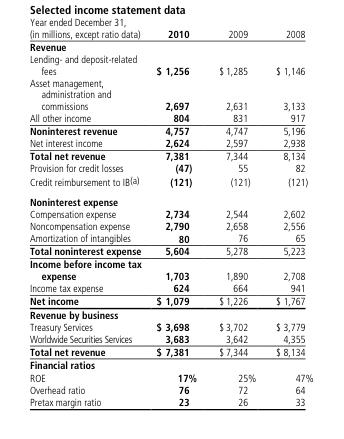table: (28, 29, 312, 407)
table column: (28, 29, 148, 407), (148, 29, 207, 407), (207, 29, 265, 407), (265, 29, 312, 407)
table column header: (28, 29, 312, 40)
table projected row header: (28, 192, 312, 208), (28, 358, 312, 371), (28, 40, 312, 52), (28, 308, 312, 320)
table row: (28, 76, 312, 112), (28, 257, 312, 282), (28, 52, 312, 76), (28, 174, 312, 192), (28, 192, 312, 208), (28, 294, 312, 308), (28, 124, 312, 137), (28, 149, 312, 162), (28, 232, 312, 245), (28, 320, 312, 333), (28, 345, 312, 358), (28, 358, 312, 371), (28, 371, 312, 384), (28, 40, 312, 52), (28, 112, 312, 124), (28, 137, 312, 149), (28, 162, 312, 174), (28, 208, 312, 220), (28, 220, 312, 232), (28, 245, 312, 257), (28, 282, 312, 294), (28, 308, 312, 320), (28, 333, 312, 345), (28, 384, 312, 396), (28, 29, 312, 40), (28, 396, 312, 407)
